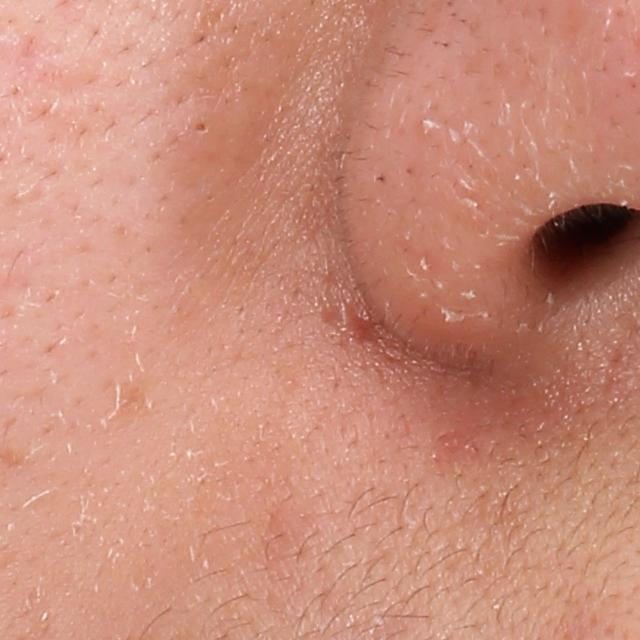comedo: (186, 117, 206, 137)
